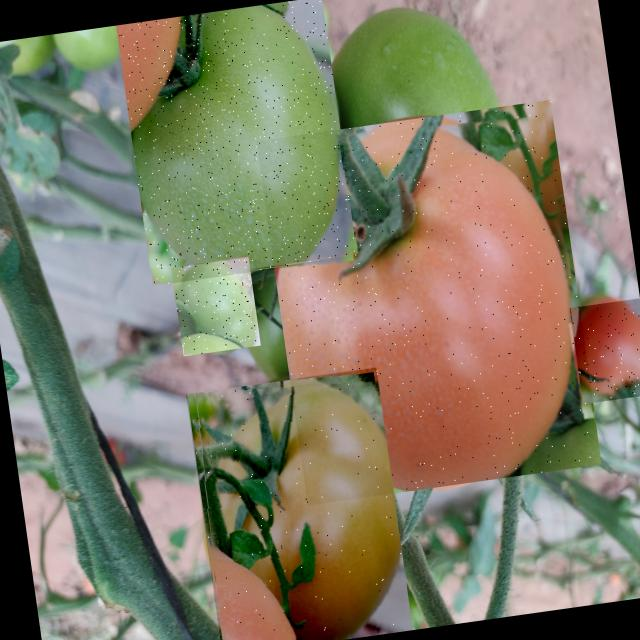Ripe Tomato: (256, 100, 602, 506), (569, 298, 640, 404)
Unripe Tomato: (116, 0, 359, 286), (186, 367, 413, 640), (171, 258, 261, 356)
